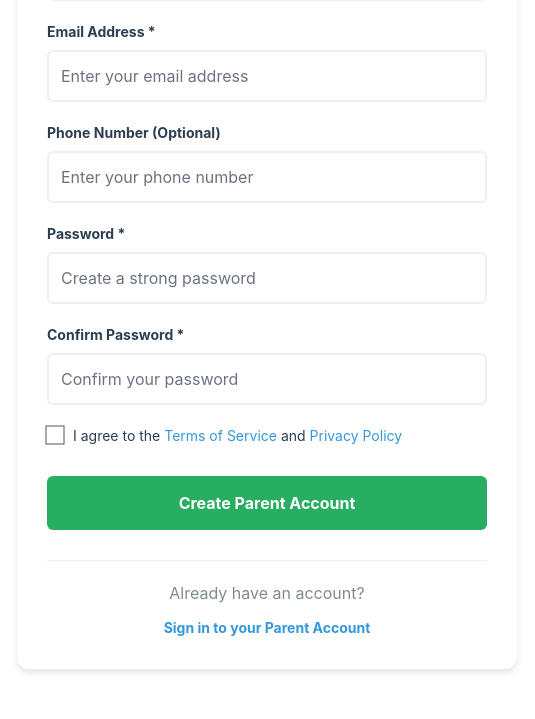
Test: ParentRegister Component › validates required fields on submit
(page scrolled)
Click the button "Create Parent Account" at (267, 503), box [47, 476, 487, 530]
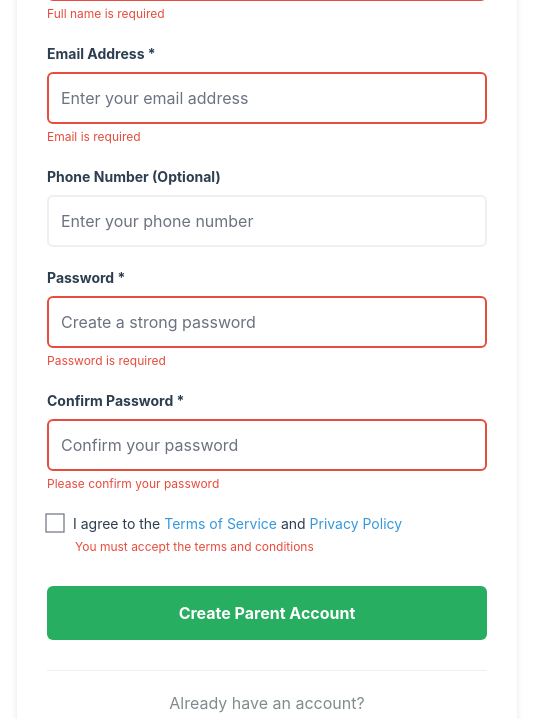
Expected: the text "Full name is required" is shown, [47, 6, 165, 21]
Expected: the text "Email is required" is shown, [47, 129, 141, 144]
Expected: the text "Password is required" is shown, [47, 353, 166, 368]
